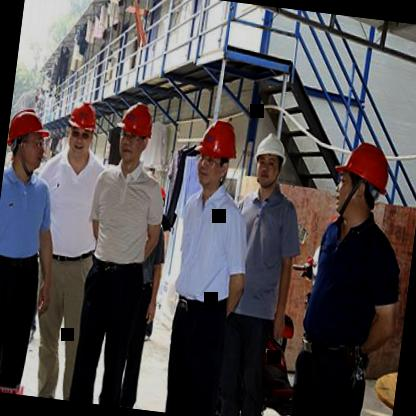helmet: (330, 134, 397, 226), (3, 99, 54, 178), (191, 118, 241, 196), (112, 101, 157, 168), (60, 96, 102, 164), (249, 128, 290, 192)
